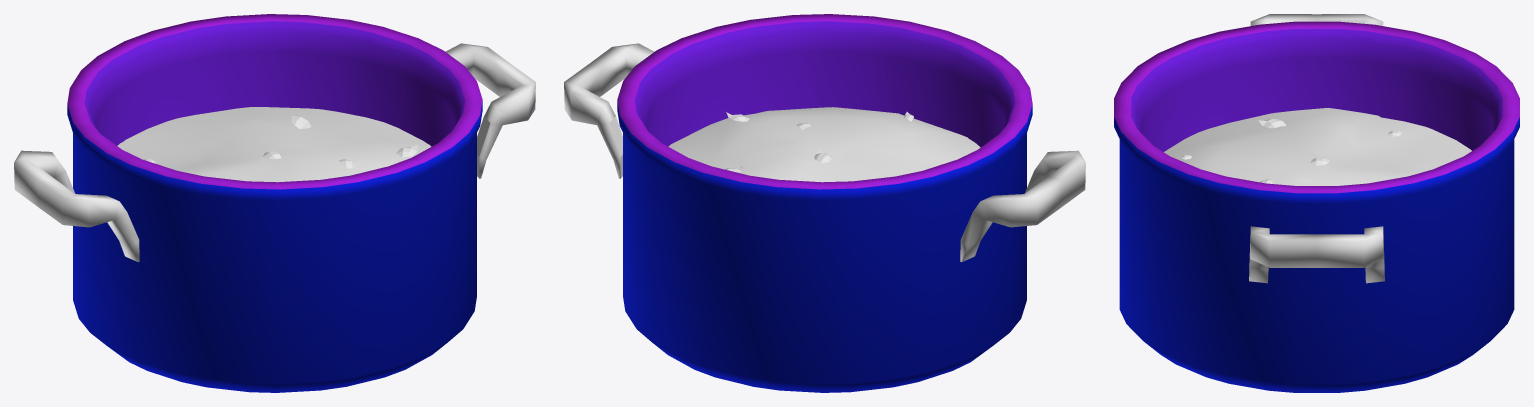
The model's file is White_Sauce_-_Cooked.fbx.
The picture shows the model from 3 angles, left to right: view 1: azimuth 30°, elevation 25°; view 2: azimuth 150°, elevation 25°; view 3: azimuth 270°, elevation 25°; orthographic projection.
Visible parts, largest first — view 1: Cylinder.005, Cylinder.010, Cylinder.006, Herbs.002; view 2: Cylinder.005, Cylinder.010, Cylinder.006, Herbs.002; view 3: Cylinder.005, Cylinder.010, Cylinder.006, Herbs.002.
Boxes of the visible parts, x1,y1,x2,y2 form: Cylinder.005: (67, 14, 482, 392); Cylinder.010: (117, 107, 431, 182); Cylinder.006: (14, 43, 535, 261); Herbs.002: (143, 115, 418, 168); Cylinder.005: (617, 14, 1032, 392); Cylinder.010: (668, 107, 980, 182); Cylinder.006: (564, 43, 1085, 261); Herbs.002: (725, 112, 913, 172); Cylinder.005: (1114, 21, 1519, 392); Cylinder.010: (1164, 108, 1471, 185); Cylinder.006: (1249, 14, 1384, 283); Herbs.002: (1181, 118, 1402, 183).
Bounding box in the file's own units: 83.38 × 35.99 × 62.94.
